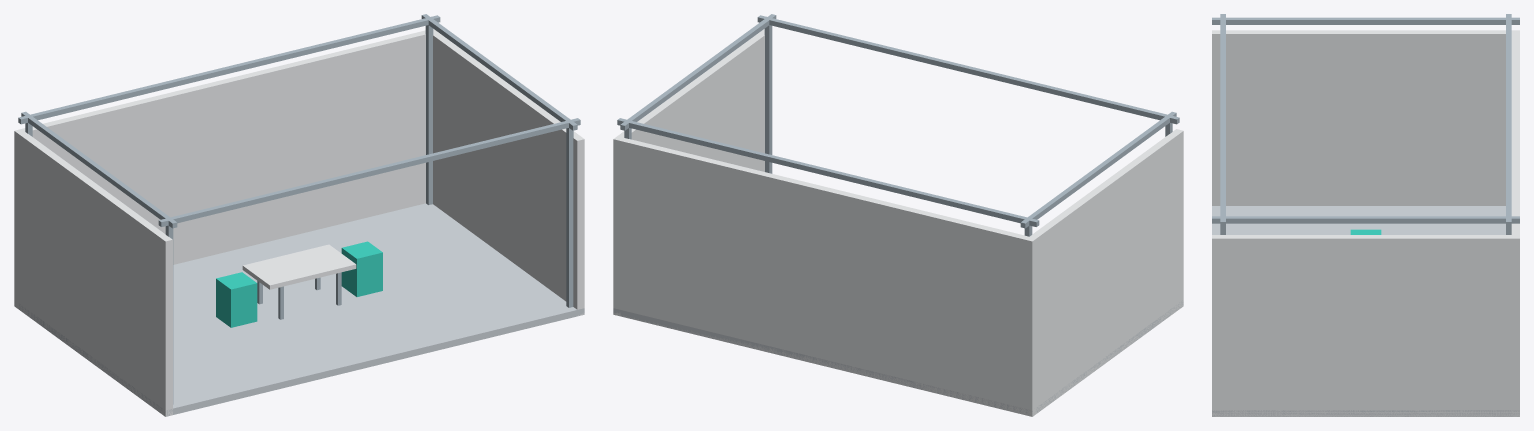
3 views of the same model, side by side, from view 1: azimuth 30°, elevation 25°; view 2: azimuth 150°, elevation 25°; view 3: azimuth 270°, elevation 25° (orthographic).
Visible parts, largest first — view 1: Exhibition Booth Concept; view 2: Exhibition Booth Concept; view 3: Exhibition Booth Concept.
Boxes of the visible parts, x1,y1,x2,y2 form: Exhibition Booth Concept: (14,14,584,416); Exhibition Booth Concept: (613,14,1183,416); Exhibition Booth Concept: (1212,14,1519,416).
Bounding box in the file's own units: 8 × 3.49 × 5.
